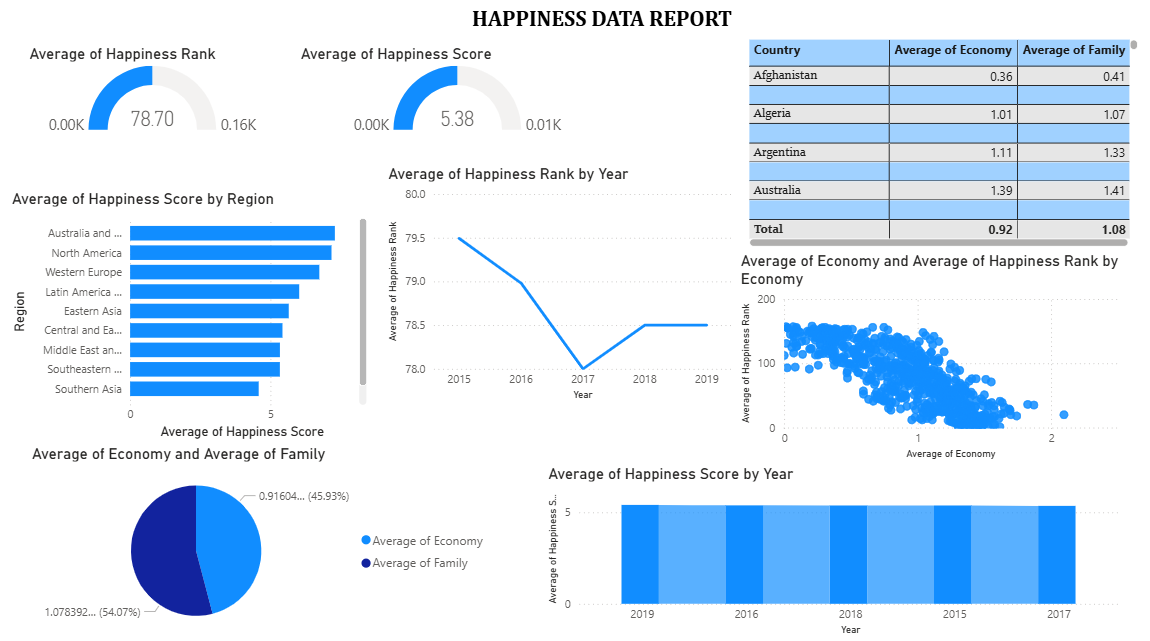

Layout of this report page (visuals, bound fields, positions):
{"tool":"powerbi","page":{"name":"Page 1","canvas":[1280,720],"ordinal":0},"visuals":[{"type":"textbox","box":[19,430,280,280],"z":0},{"type":"textbox","box":[524.2,12.3,343.1,38.4],"z":1000},{"type":"barChart","fields":{"Category":["Happiness_data.Region"],"Y":["Avg(Happiness_data.Happiness Score)"]},"box":[19.2,219.6,399.3,279.9],"z":2000},{"type":"gauge","fields":{"Y":["Avg(Happiness_data.Happiness Rank)"]},"box":[38.4,60.4,279.9,104.3],"z":3000},{"type":"gauge","fields":{"Y":["Avg(Happiness_data.Happiness Score)"]},"box":[336.2,60.4,354,104.3],"z":4000},{"type":"pieChart","fields":{"Y":["Avg(Happiness_data.Economy)","Avg(Happiness_data.Family)"]},"box":[41.2,499.5,514.6,215.4],"z":5000},{"type":"lineChart","fields":{"Category":["Happiness_data.Year"],"Y":["Avg(Happiness_data.Happiness Rank)"]},"box":[432.2,192.1,387,264.8],"z":8000},{"type":"pivotTable","fields":{"Rows":["Happiness_data.Country"],"Values":["Avg(Happiness_data.Economy)","Avg(Happiness_data.Family)"]},"box":[828.8,50.8,436.4,237.4],"z":9000},{"type":"ribbonChart","fields":{"Category":["Happiness_data.Year"],"Y":["Avg(Happiness_data.Happiness Score)"]},"box":[607.9,521.4,639.5,193.5],"z":9001},{"type":"scatterChart","fields":{"Y":["Avg(Happiness_data.Happiness Rank)"],"Category":["Happiness_data.Economy"],"X":["Avg(Happiness_data.Economy)"]},"box":[819.2,288.2,428.1,233.3],"z":9002}]}

Visuals, with their boxes in screenshot pixels (x1, y1, x2, y2), scaled from the page's 1280x720 canvas onto the 1150x641 screenshot:
textbox: [left=17, top=383, right=269, bottom=632]
textbox: [left=471, top=11, right=779, bottom=45]
barChart - Happiness_data.Region x Avg(Happiness_data.Happiness Score): [left=17, top=196, right=376, bottom=445]
gauge - Avg(Happiness_data.Happiness Rank): [left=34, top=54, right=286, bottom=147]
gauge - Avg(Happiness_data.Happiness Score): [left=302, top=54, right=620, bottom=147]
pieChart - Avg(Happiness_data.Economy) x Avg(Happiness_data.Family): [left=37, top=445, right=499, bottom=636]
lineChart - Happiness_data.Year x Avg(Happiness_data.Happiness Rank): [left=388, top=171, right=736, bottom=407]
pivotTable - Happiness_data.Country x Avg(Happiness_data.Economy): [left=745, top=45, right=1137, bottom=257]
ribbonChart - Happiness_data.Year x Avg(Happiness_data.Happiness Score): [left=546, top=464, right=1121, bottom=636]
scatterChart - Avg(Happiness_data.Happiness Rank) x Happiness_data.Economy: [left=736, top=257, right=1121, bottom=464]
